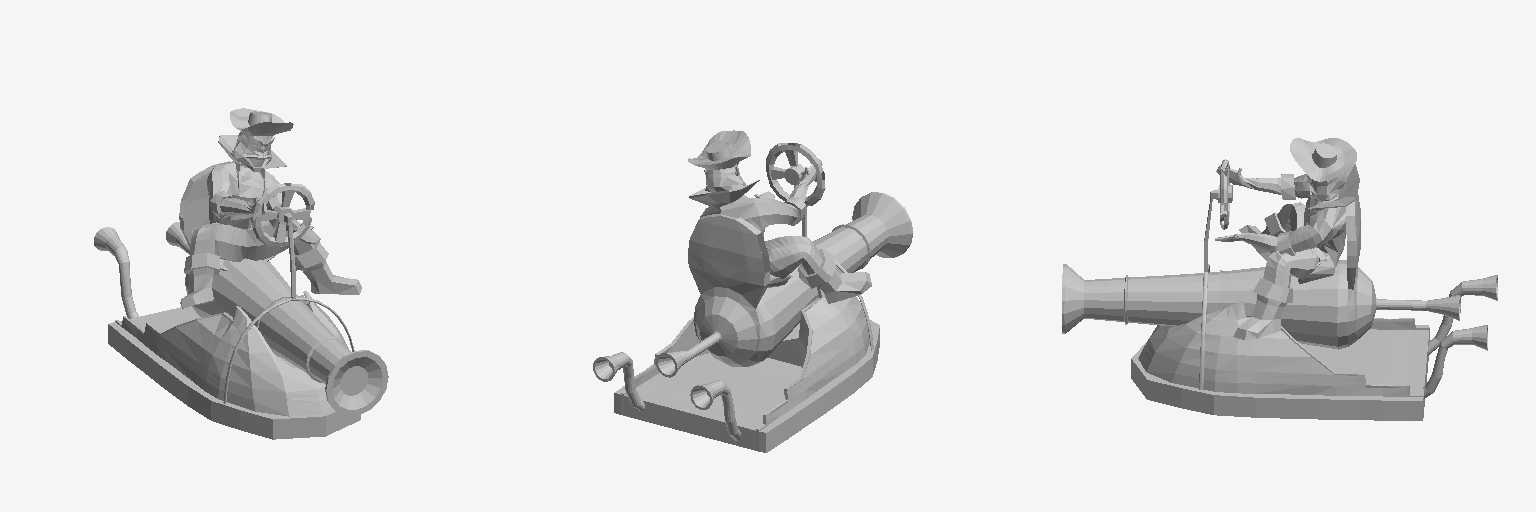
Rendered from pirataGiroDER_000364.obj.
3 views of the same model, side by side, from view 1: azimuth 30°, elevation 25°; view 2: azimuth 150°, elevation 25°; view 3: azimuth 270°, elevation 25° (orthographic).
Visible parts, largest first — view 1: carro_pirata, Pirata_PirataH; view 2: carro_pirata, Pirata_PirataH; view 3: carro_pirata, Pirata_PirataH.
Part boxes in pixels (x1,y1,x2,y2): carro_pirata: (94, 161, 388, 439); Pirata_PirataH: (180, 108, 361, 308); carro_pirata: (593, 143, 912, 452); Pirata_PirataH: (688, 130, 871, 303); carro_pirata: (1062, 159, 1497, 420); Pirata_PirataH: (1215, 138, 1359, 339).
Size of the model in its own units: 5.68 by 7.63 by 12.1.